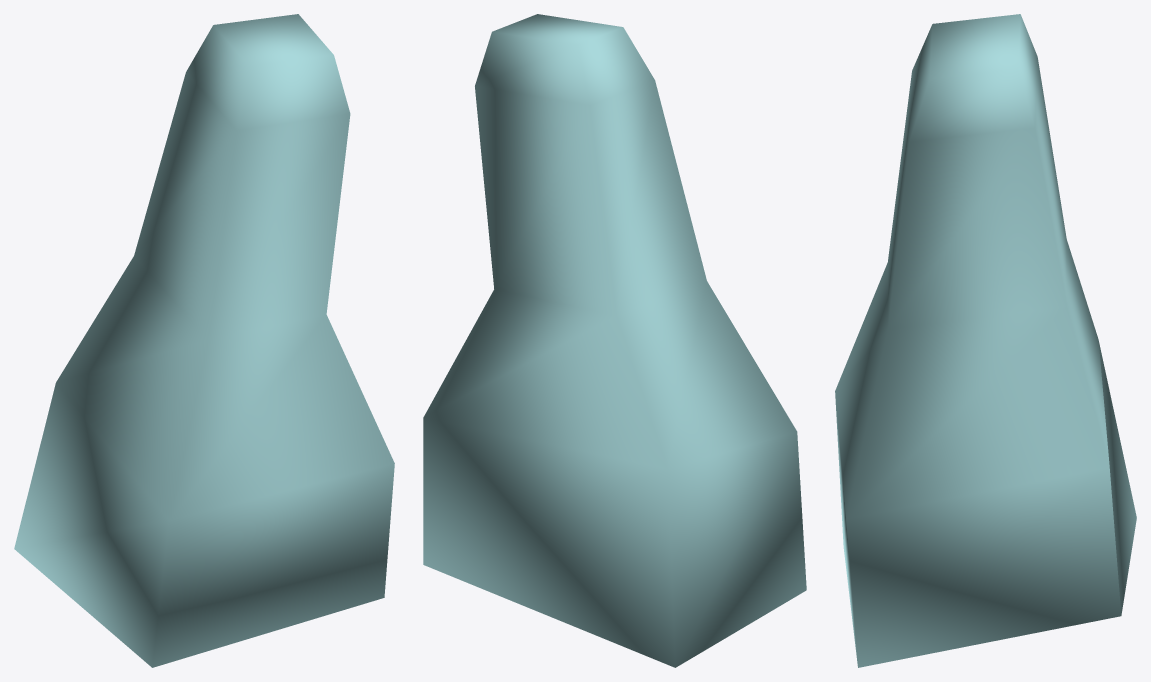
File: Skelly_thumb.03.L.fbx
3 renders of one model, left to right at view 1: azimuth 30°, elevation 25°; view 2: azimuth 150°, elevation 25°; view 3: azimuth 270°, elevation 25°, orthographic. The views are drawn at different scales.
Parts seen in each view (by area): view 1: Skelly_thumb.03.L; view 2: Skelly_thumb.03.L; view 3: Skelly_thumb.03.L.
Boxes of the visible parts, box(x1,y1,x2,y2) form: Skelly_thumb.03.L: box(14, 14, 394, 667); Skelly_thumb.03.L: box(423, 14, 806, 667); Skelly_thumb.03.L: box(835, 14, 1136, 667).
Size of the model in its own units: 1.21 by 2.49 by 1.12.
